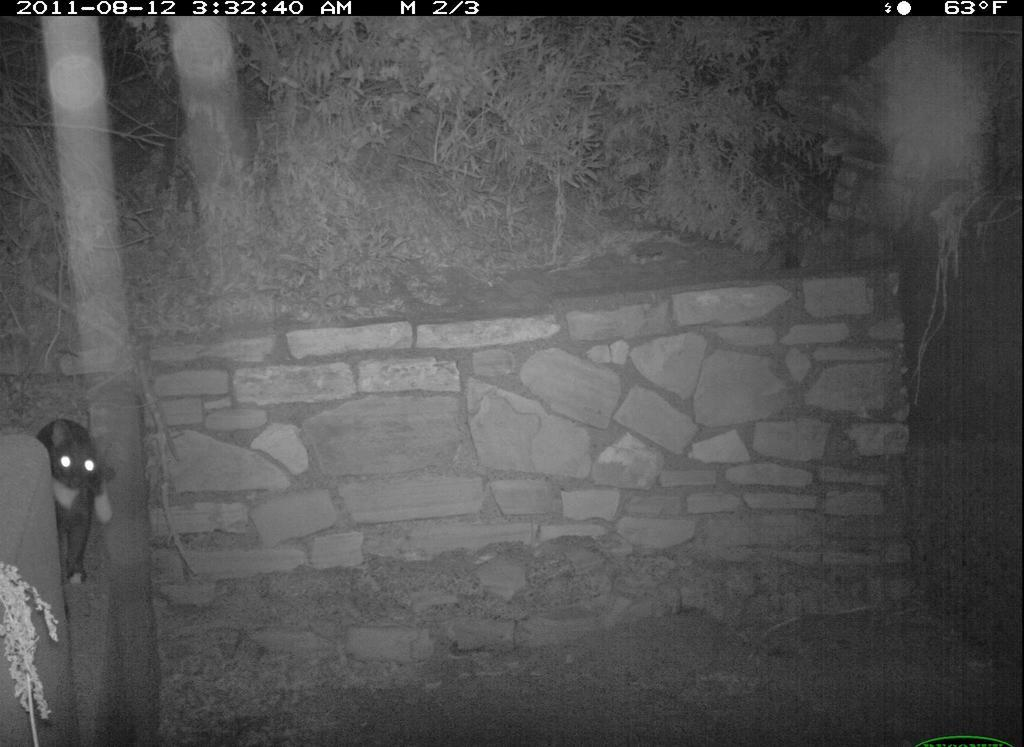cat: (40, 414, 120, 584)
